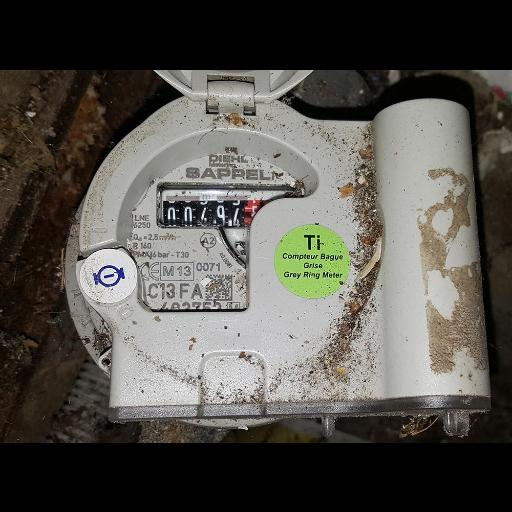0: (162, 199, 180, 227), (180, 199, 197, 227)
4: (197, 199, 214, 227), (230, 199, 245, 228)
5: (245, 200, 262, 228)
9: (213, 199, 230, 227)
border_water_meter_number: (156, 181, 301, 232)
